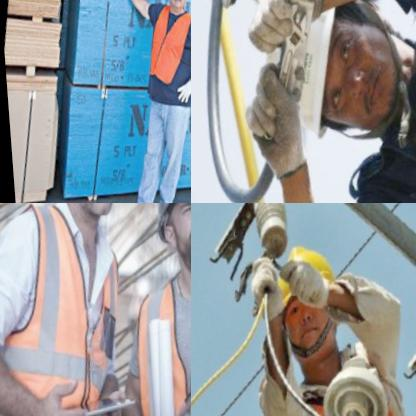helmet: (244, 0, 416, 149), (255, 239, 350, 361), (134, 203, 191, 278), (156, 0, 191, 19)
